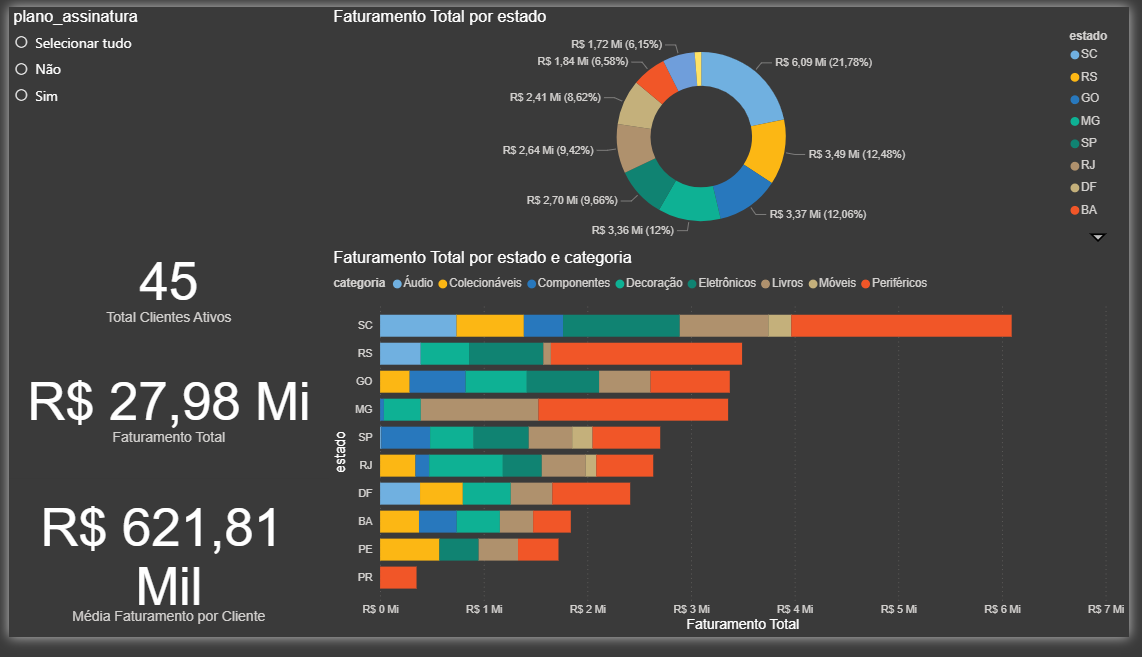

What the dashboard file says about the page in this screenshot:
{"tool":"powerbi","page":{"name":"Dashboard de Faturamento","canvas":[1280,720],"ordinal":0},"visuals":[{"type":"card","fields":{"Values":["vendas.Média Faturamento por Cliente"]},"box":[0,538.6,365.7,181.4],"z":0},{"type":"card","fields":{"Values":["vendas.Total Clientes Ativos"]},"box":[0,264.3,365.7,107.1],"z":1000},{"type":"card","fields":{"Values":["vendas.Faturamento Total"]},"box":[0,371.4,365.7,167.1],"z":2000},{"type":"donutChart","fields":{"Category":["clientes.estado"],"Y":["vendas.Faturamento Total"]},"box":[365.7,0,914.3,275.7],"z":3000},{"type":"barChart","fields":{"Category":["clientes.estado"],"Series":["vendas.categoria"],"Y":["vendas.Faturamento Total"]},"box":[366.2,276.2,913.8,443.8],"z":4000},{"type":"listSlicer","fields":{"Values":["clientes.plano_assinatura"]},"box":[0,0,365.7,275.7],"z":5000}]}

Visuals, with their boxes in screenshot pixels (x1, y1, x2, y2), scaled from the page's 1280x720 canvas onto the 1142x657 screenshot:
card - vendas.Média Faturamento por Cliente: 0, 491, 326, 656
card - vendas.Total Clientes Ativos: 0, 241, 326, 339
card - vendas.Faturamento Total: 0, 339, 326, 491
donutChart - clientes.estado x vendas.Faturamento Total: 326, 0, 1141, 252
barChart - clientes.estado x vendas.categoria: 327, 252, 1141, 656
listSlicer - clientes.plano_assinatura: 0, 0, 326, 252
